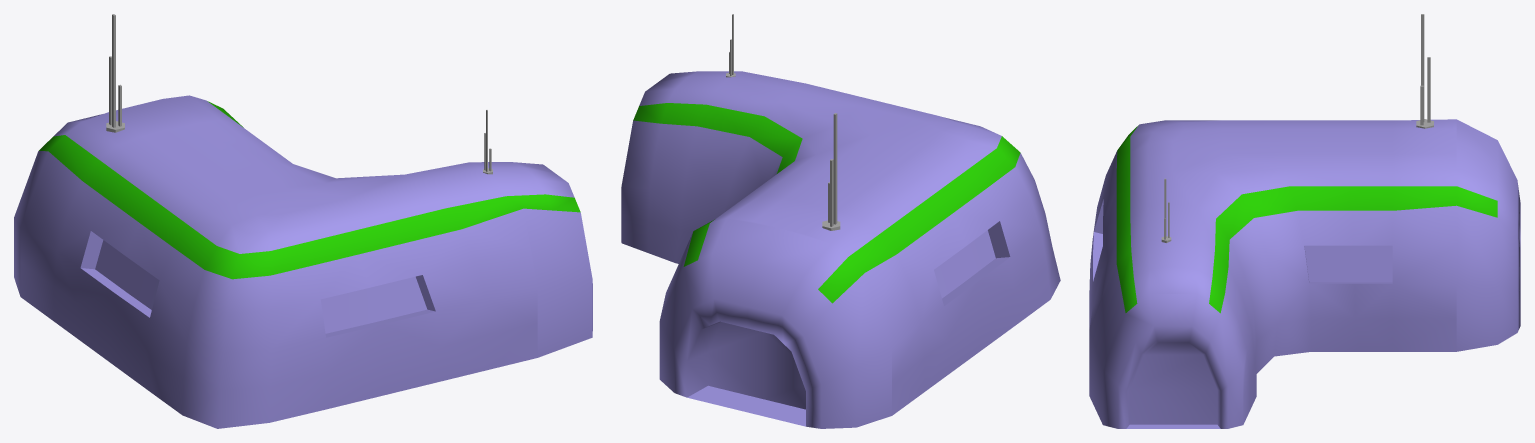
The model's file is CheckInBuilding.fbx.
The picture shows the model from 3 angles, left to right: view 1: azimuth 30°, elevation 25°; view 2: azimuth 150°, elevation 25°; view 3: azimuth 270°, elevation 25°; orthographic projection. The views are drawn at different scales.
Visible parts, largest first — view 1: pCube48; view 2: pCube48; view 3: pCube48.
Boxes of the visible parts, x1,y1,x2,y2 form: pCube48: [14, 14, 592, 428]; pCube48: [621, 14, 1060, 428]; pCube48: [1089, 14, 1520, 428].
Size of the model in its own units: 423 by 283 by 417.
